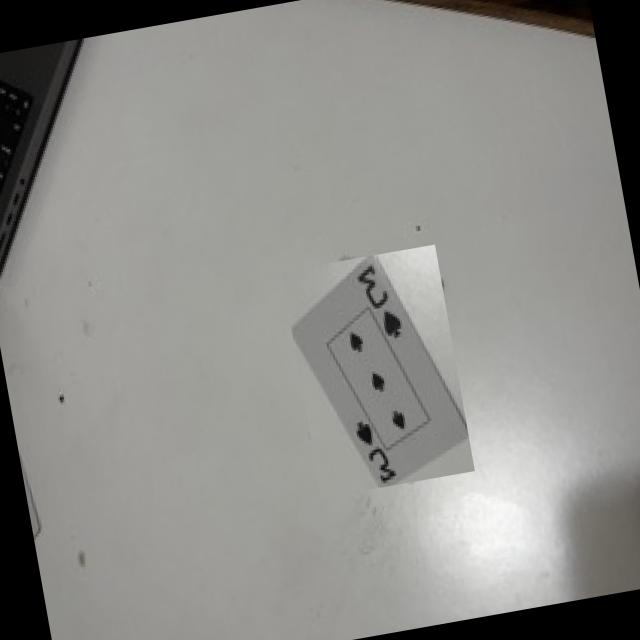3 of spades: (291, 254, 468, 485)
